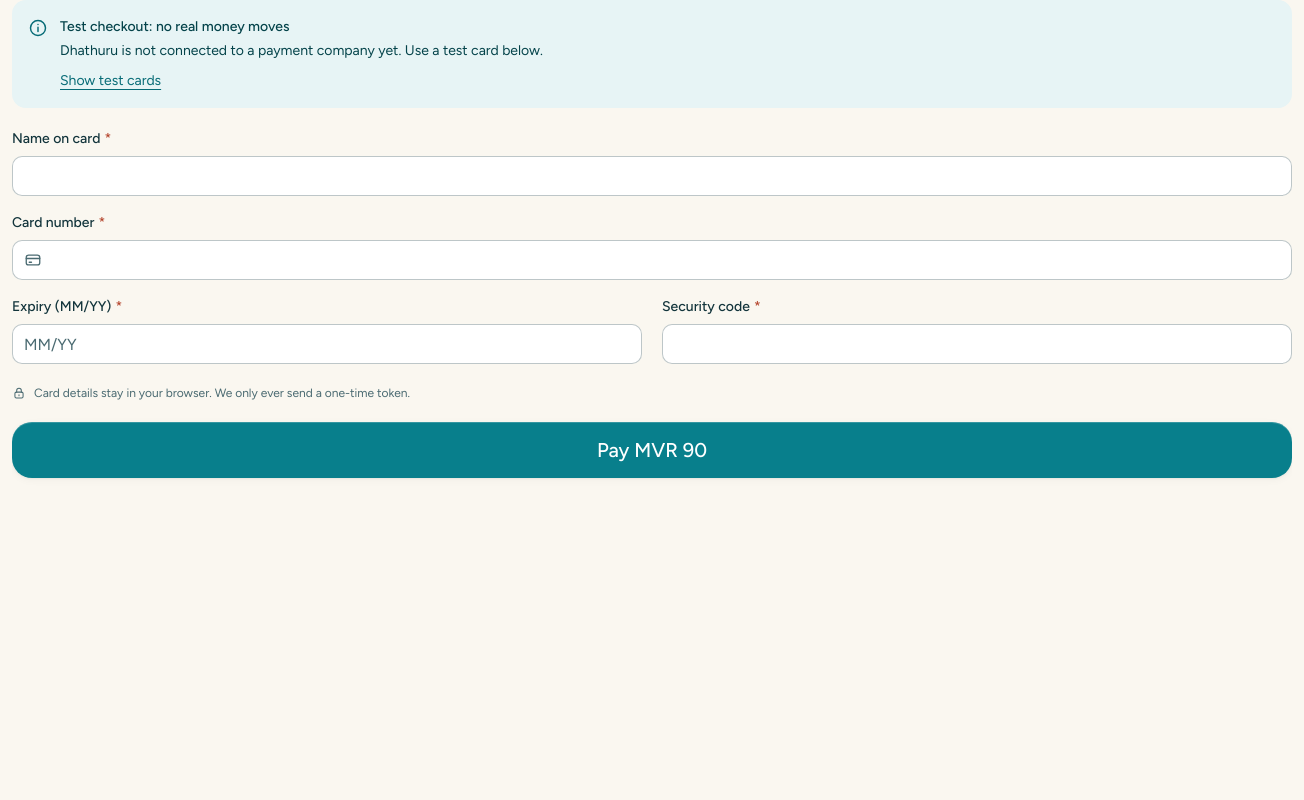
Test: CardForm › fills a test card from the list
Click the button "Show test cards". click: point(111, 81)
box: [60, 70, 161, 92]
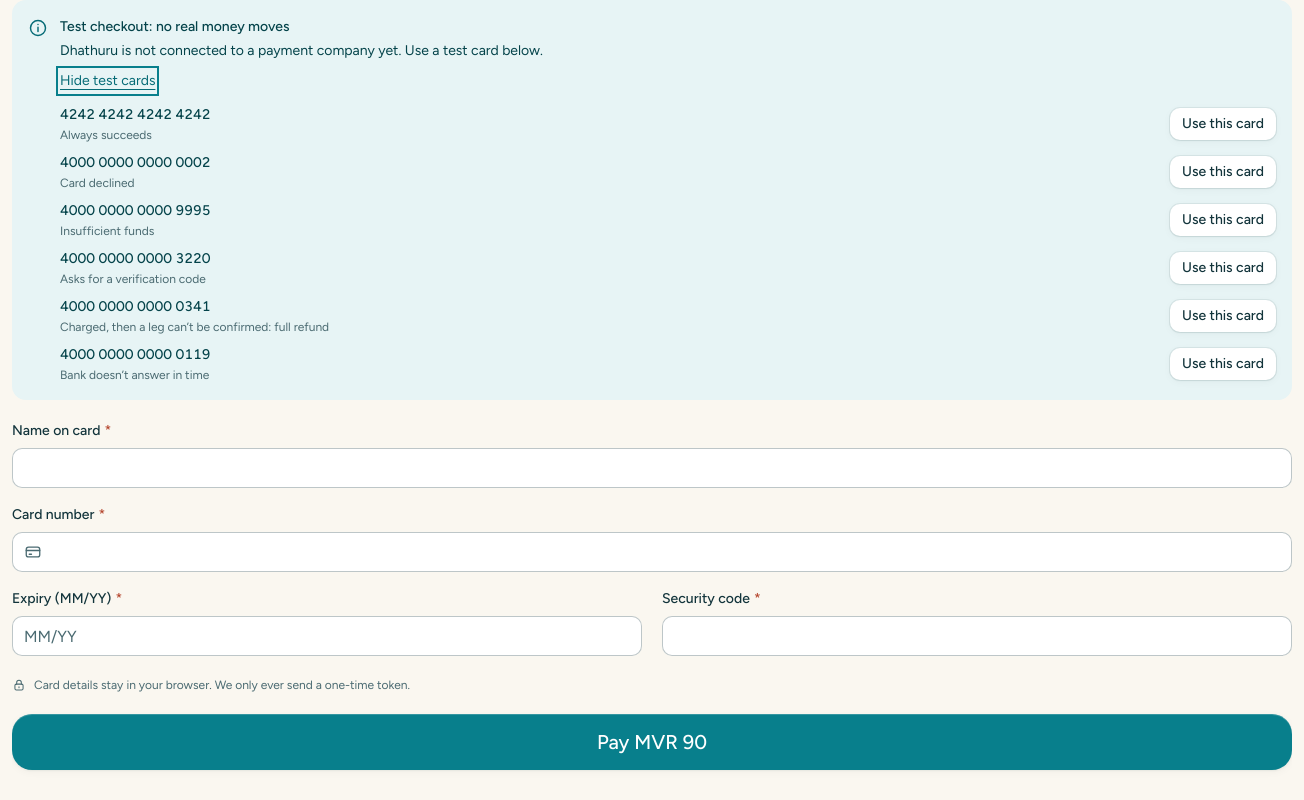
Now the list item "Asks for a verification code" is shown, box [60, 272, 206, 286]
Click the button "Use this card" in the row of "4000 0000 0000 3220". click: point(1223, 268)
box: [1170, 252, 1276, 284]
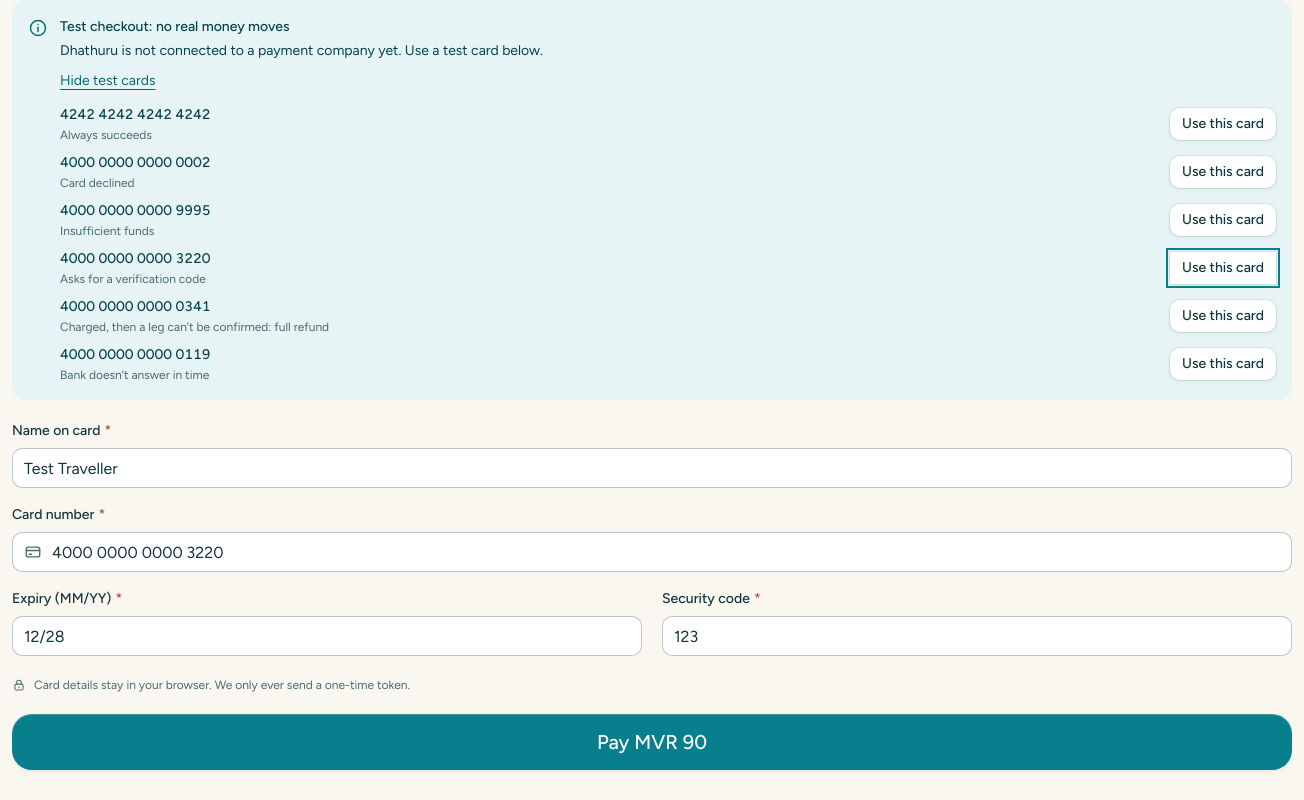
Now the field labelled "Card number*" holds "4000 0000 0000 3220", box [12, 532, 1292, 572]
